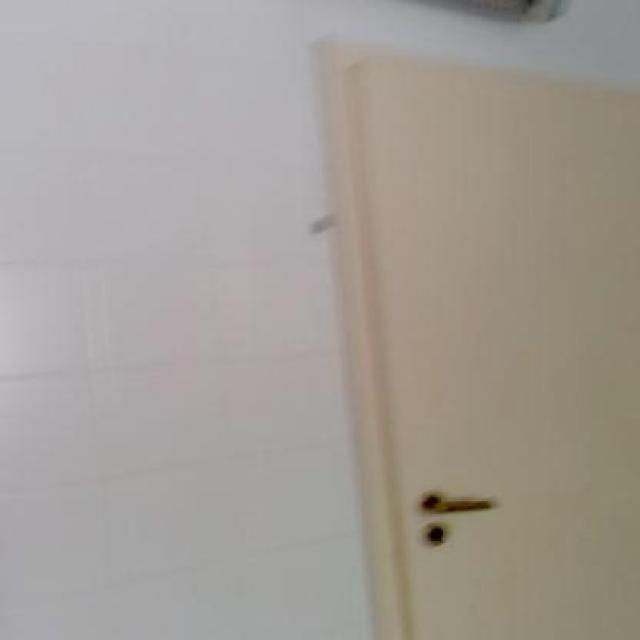door: (317, 40, 638, 638)
